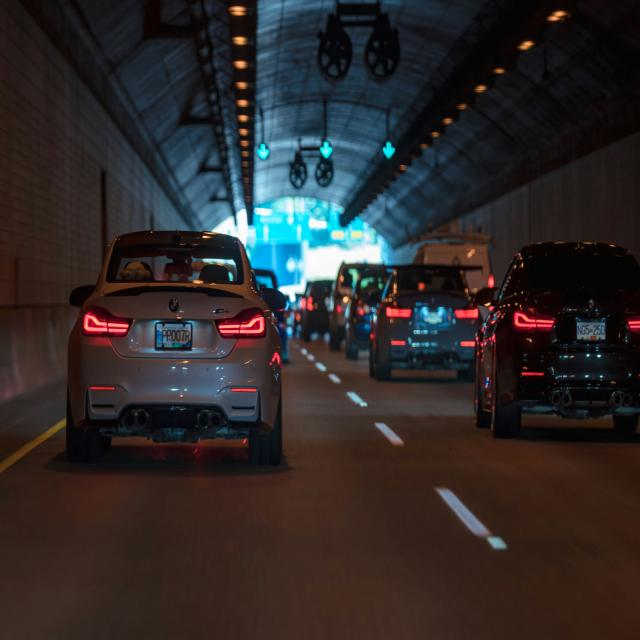Car: (65, 229, 284, 466), (473, 240, 640, 439), (368, 264, 482, 381), (344, 270, 393, 360), (299, 279, 335, 341)
